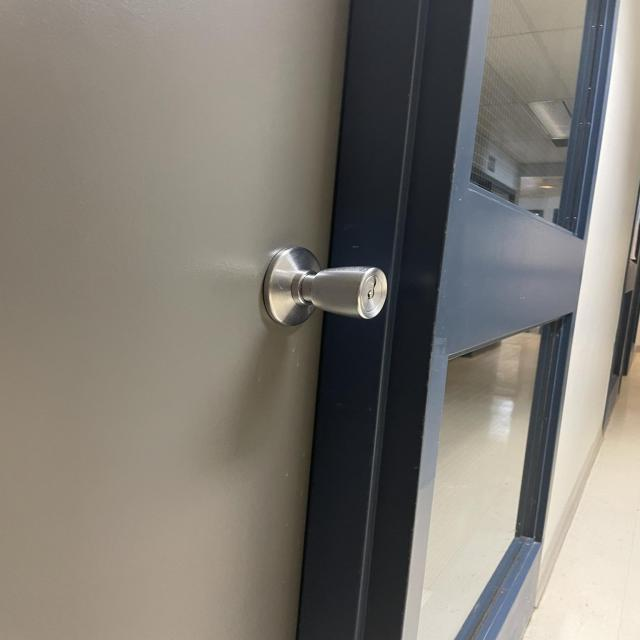door-knob: (263, 248, 387, 325)
